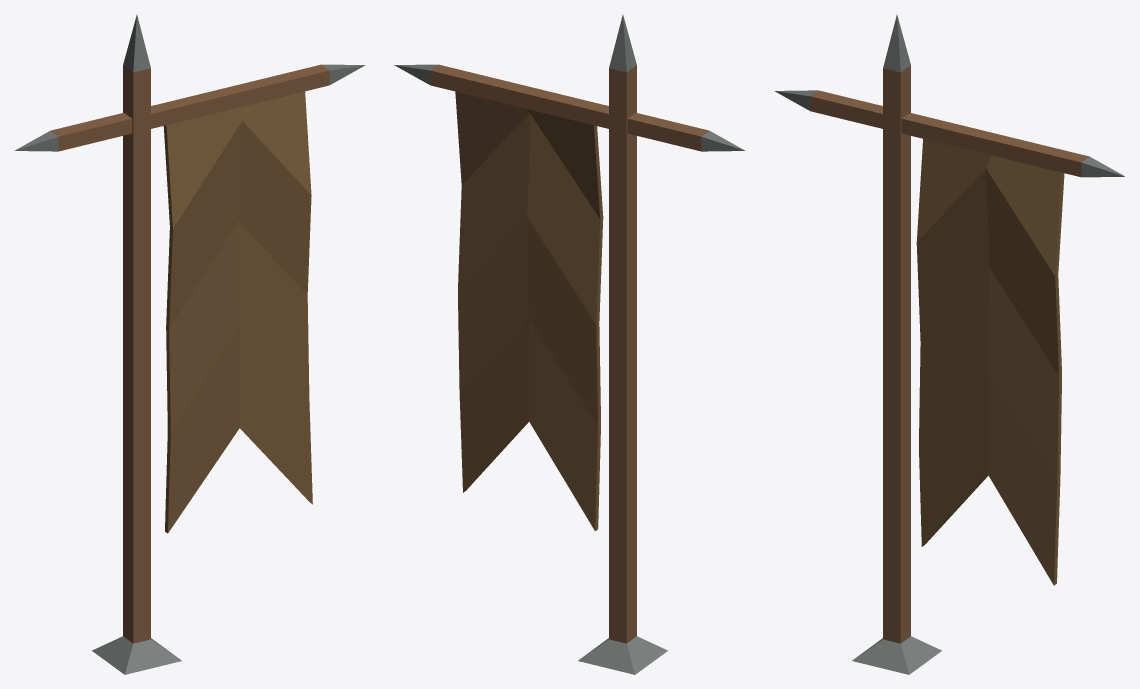
The model's file is Banner_2_Brown.fbx.
The picture shows the model from 3 angles, left to right: view 1: azimuth 30°, elevation 25°; view 2: azimuth 150°, elevation 25°; view 3: azimuth 330°, elevation 25°; orthographic projection.
Parts seen in each view (by area): view 1: Banner_2_Brown_Part_3, Banner_2_Brown_Part_1, Banner_2_Brown_Part_2; view 2: Banner_2_Brown_Part_3, Banner_2_Brown_Part_1, Banner_2_Brown_Part_2; view 3: Banner_2_Brown_Part_3, Banner_2_Brown_Part_1, Banner_2_Brown_Part_2.
Part boxes in pixels (box(x1,y1,x2,y2)): Banner_2_Brown_Part_3: box(163, 91, 312, 533); Banner_2_Brown_Part_1: box(50, 64, 329, 643); Banner_2_Brown_Part_2: box(14, 14, 365, 674); Banner_2_Brown_Part_3: box(455, 91, 603, 531); Banner_2_Brown_Part_1: box(430, 64, 709, 643); Banner_2_Brown_Part_2: box(394, 14, 745, 674); Banner_2_Brown_Part_3: box(916, 139, 1064, 585); Banner_2_Brown_Part_1: box(810, 65, 1089, 643); Banner_2_Brown_Part_2: box(774, 14, 1124, 674).
Bounding box in the file's own units: 172 × 300 × 28.14.
